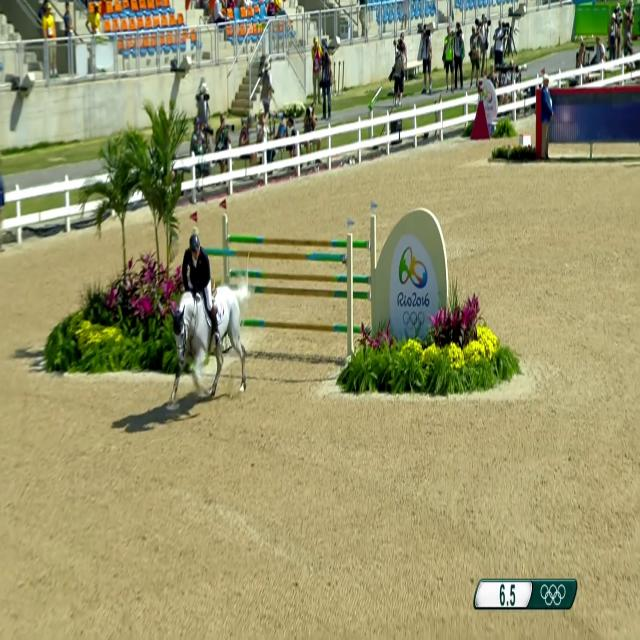Horse Running: (170, 212, 266, 423)
